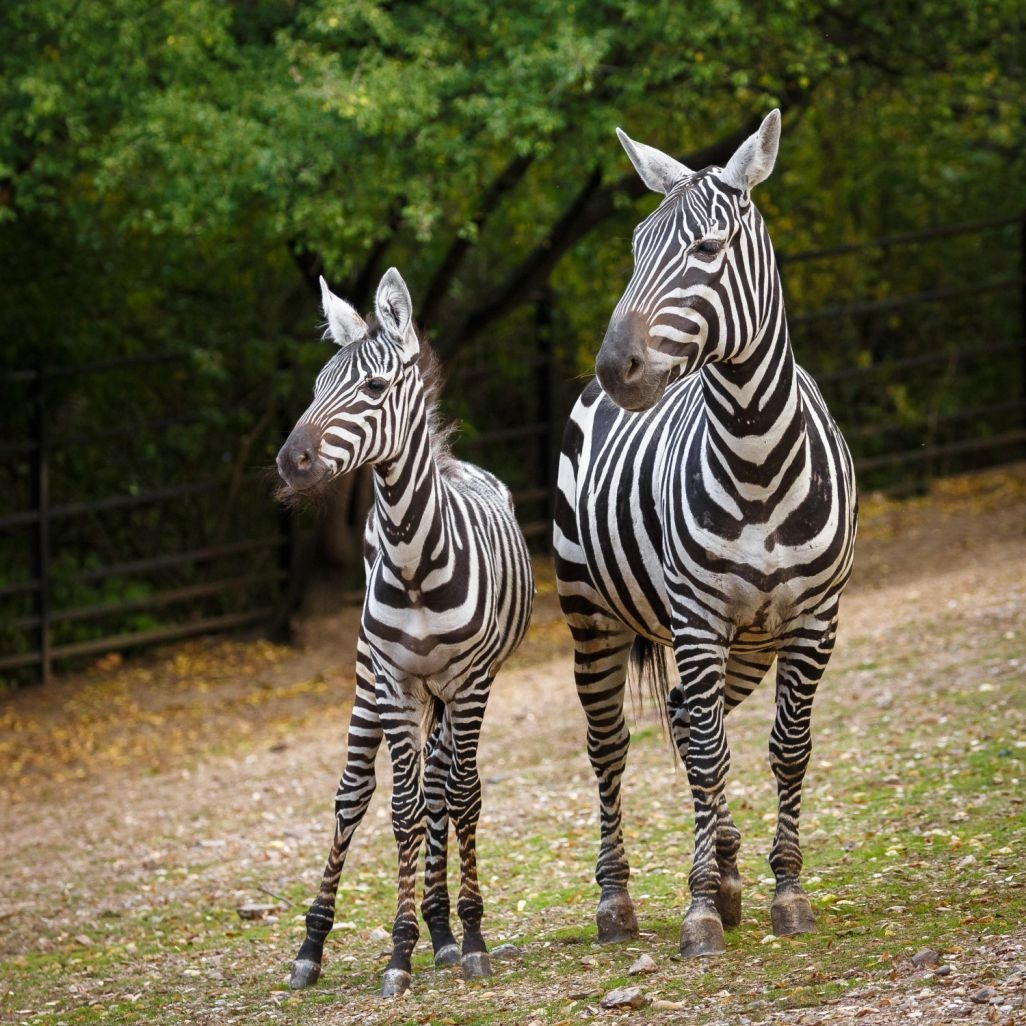zebra: (552, 112, 860, 941), (276, 266, 538, 974)
